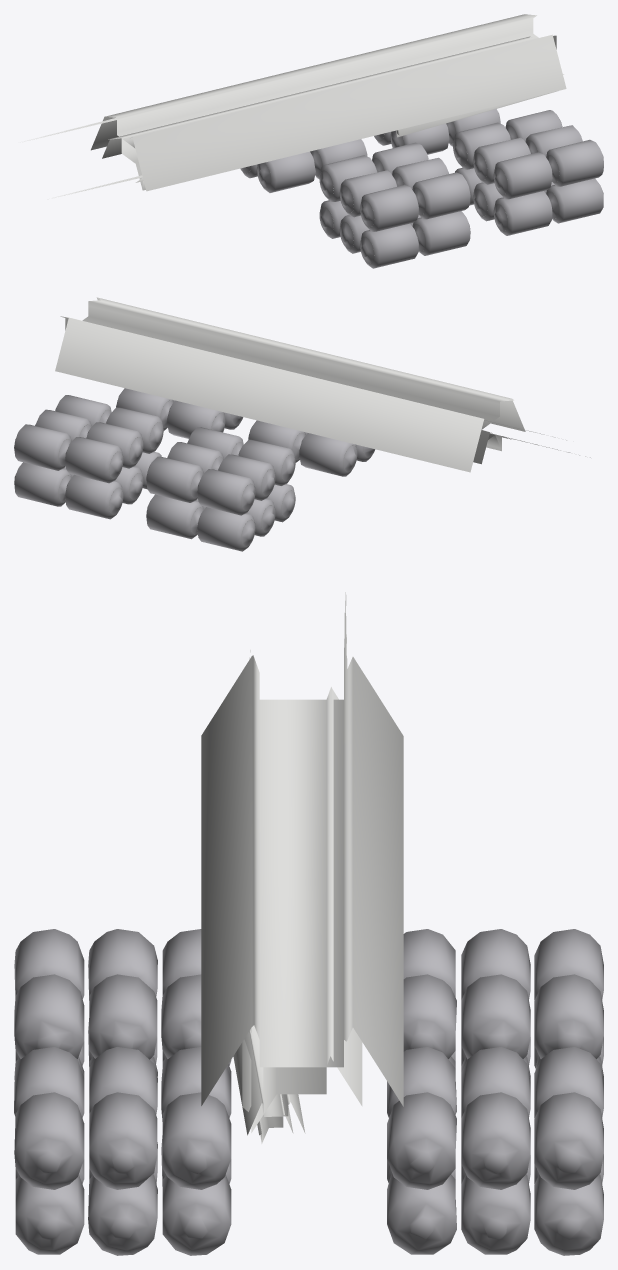
The model's file is iss-truss-p3-p4.glb.
The picture shows the model from 3 angles, top to bottom: view 1: azimuth 30°, elevation 25°; view 2: azimuth 150°, elevation 25°; view 3: azimuth 270°, elevation 25°; orthographic projection. The views are drawn at different scales.
Visible parts, largest first — view 1: truss-p3-p4; view 2: truss-p3-p4; view 3: truss-p3-p4.
Part boxes in pixels (x1,y1,x2,y2): truss-p3-p4: [20, 14, 603, 268]; truss-p3-p4: [14, 297, 590, 551]; truss-p3-p4: [14, 592, 603, 1255].
Bounding box in the file's own units: 15.98 × 3.88 × 8.61.
1 material, 1 textured.
